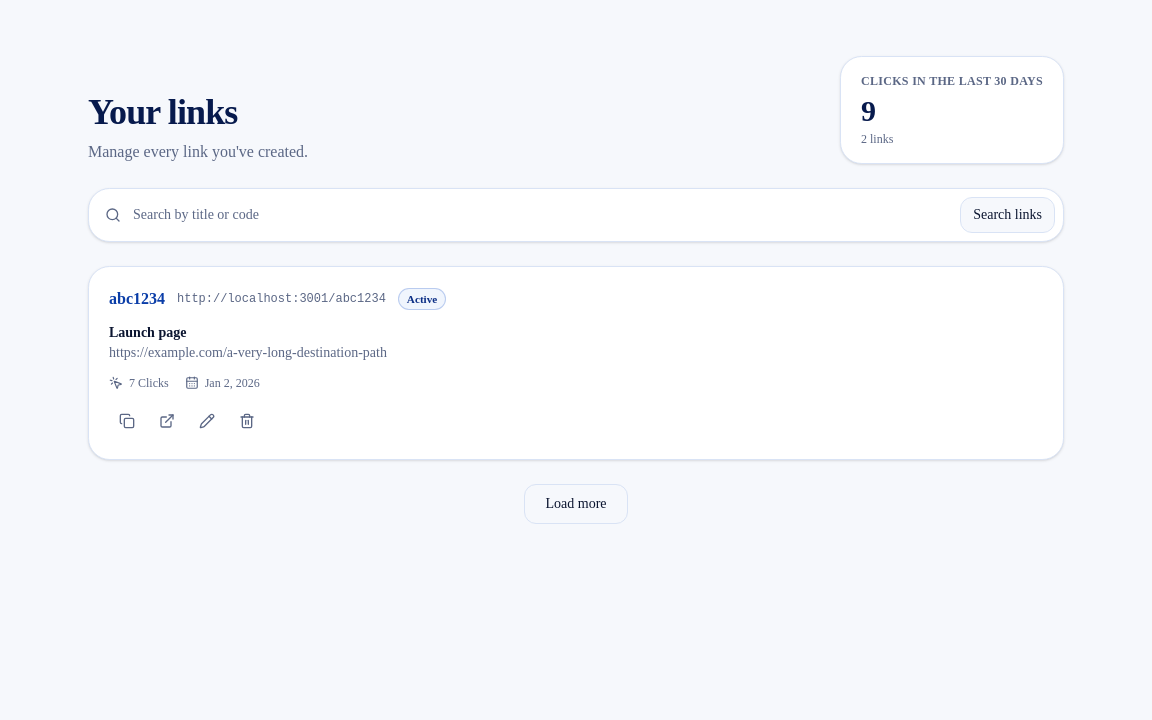
Test case: LinksView › loads the next cursor page and appends the results
This screenshot has width=1152, height=720.
Click the button "Load more" at (576, 504), box [524,484,628,524]
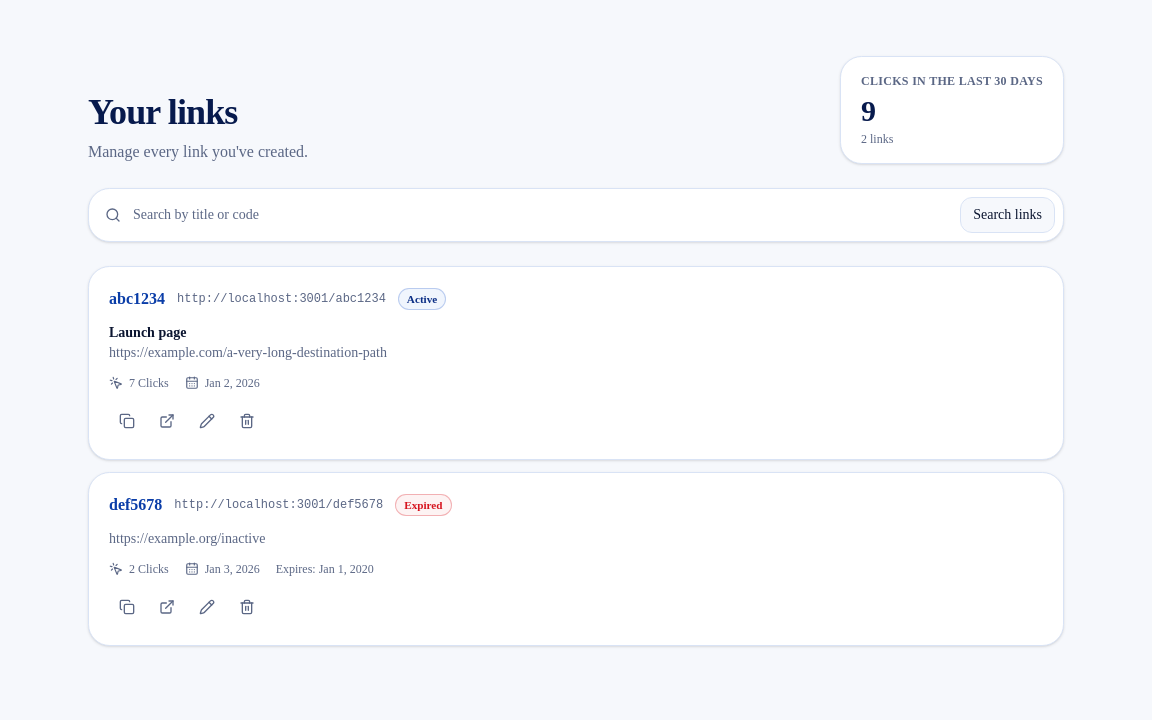
Expected: the link with aria-label "Open details: def5678" is shown, [109,493,162,517]
Expected: the button "Load more" is gone
